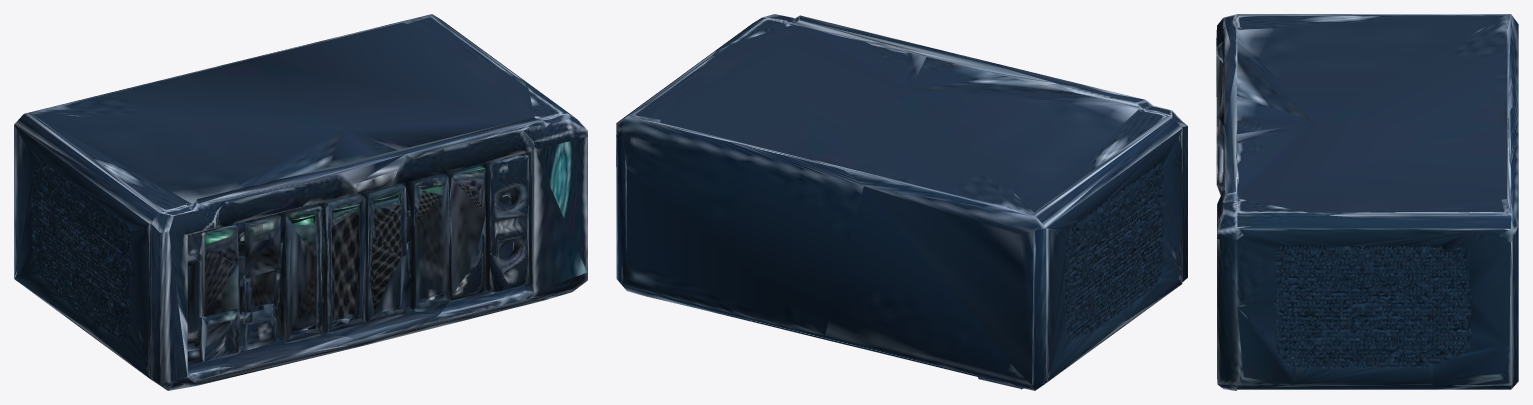
The model's file is lab-nas.glb.
3 renders of one model, left to right at view 1: azimuth 30°, elevation 25°; view 2: azimuth 150°, elevation 25°; view 3: azimuth 270°, elevation 25°, orthographic.
Visible parts, largest first — view 1: Mesh_0; view 2: Mesh_0; view 3: Mesh_0.
Boxes of the visible parts, left/top/right/bottom form: Mesh_0: left=14, top=14, right=587, bottom=390; Mesh_0: left=616, top=14, right=1187, bottom=390; Mesh_0: left=1216, top=14, right=1518, bottom=390.
Bounding box in the file's own units: 1.9 × 0.793 × 1.15.
Materials: 1 (1 with a texture image).
